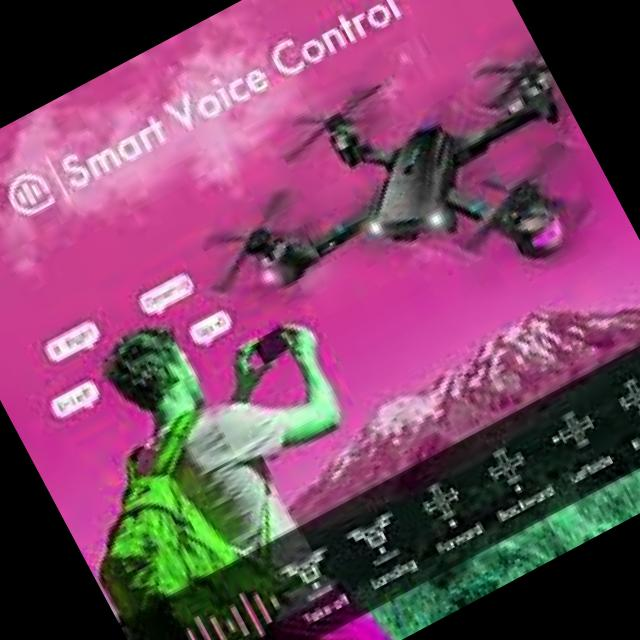drone: (147, 0, 632, 417)
